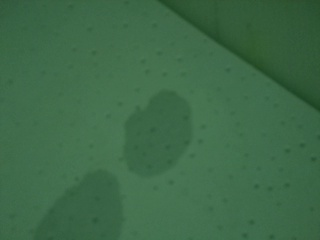Water_detected: (125, 103, 184, 165), (51, 187, 108, 239)
